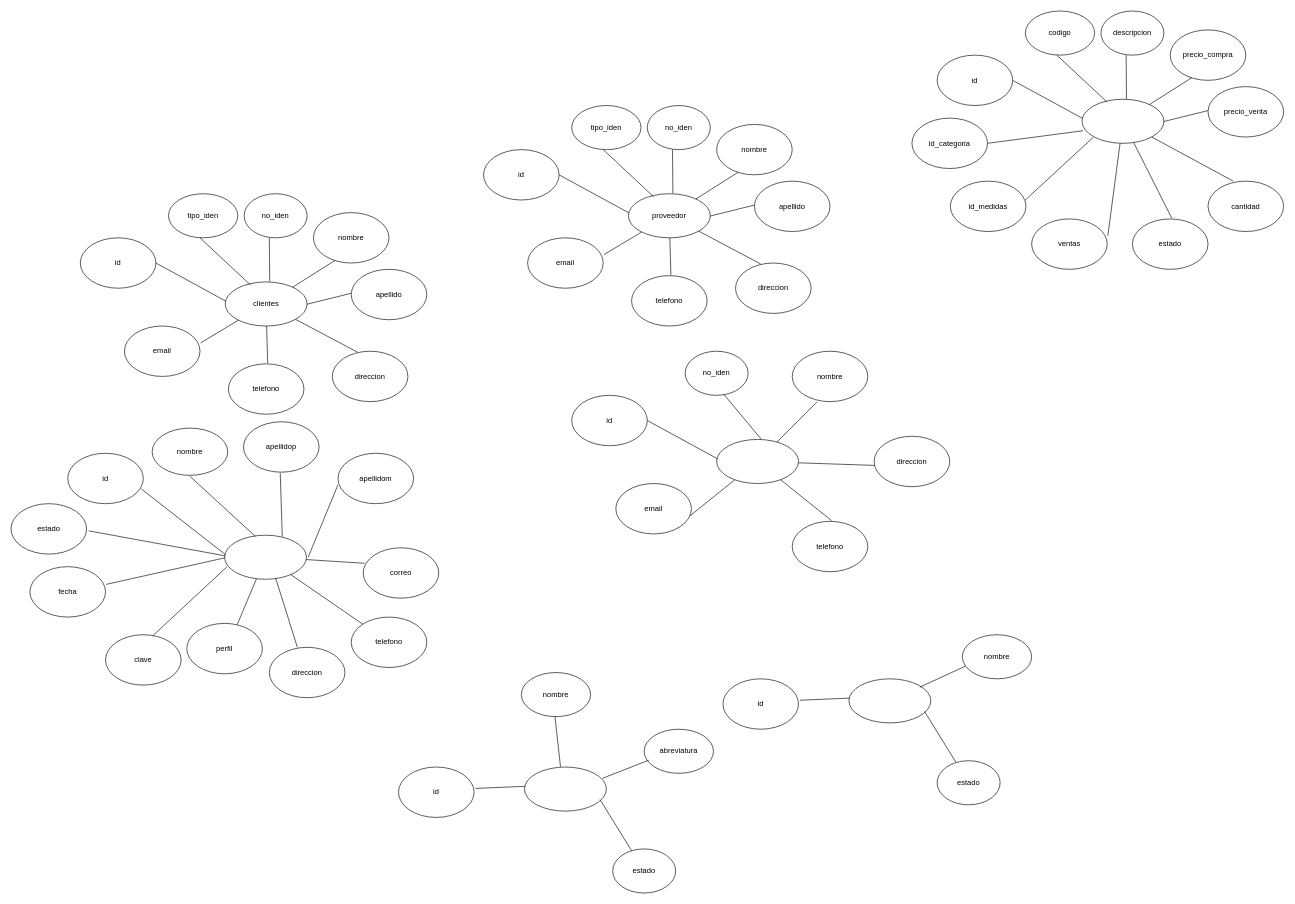
This 1295x904 diagram has some shape labels left out. The shapes that lost their labels are listed below. From the top down, each one's box as (x1, y1, x2, y2) in pixels, then its label:
(1081, 99, 1164, 143): productos
(716, 439, 799, 484): configuracion
(224, 535, 306, 579): Usuarios
(848, 678, 931, 723): categorias
(524, 766, 606, 811): medidas
